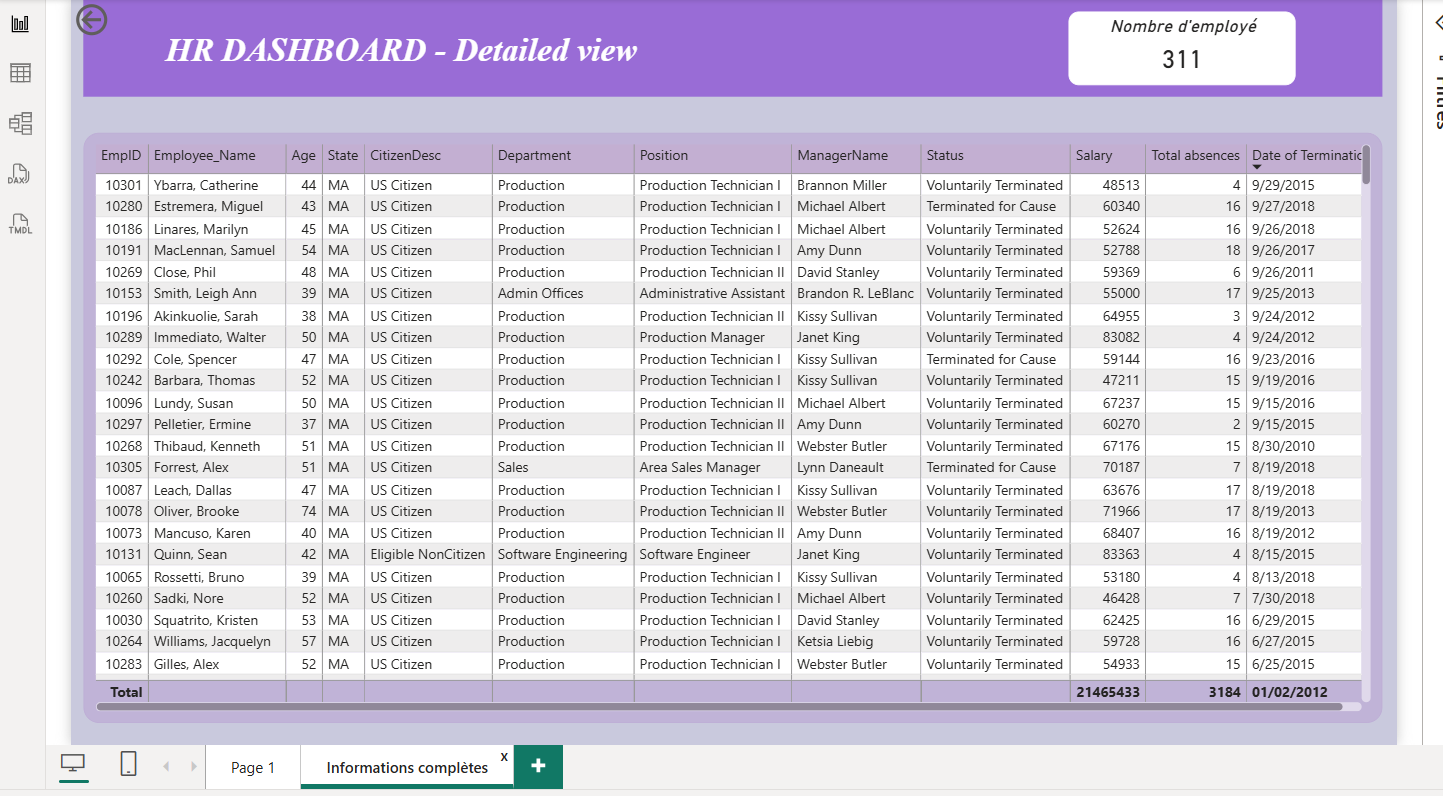

The dashboard page shown, as its layout file describes it:
{"tool":"powerbi","page":{"name":"Doublon de Page 1","canvas":[1280,720],"ordinal":1},"visuals":[{"type":"shape","box":[12.1,0,1253.5,94.1],"z":0},{"type":"textbox","box":[39.8,25.3,558.6,62.7],"z":1000},{"type":"tableEx","title":"Attrition by DateofHire","fields":{"Values":["HRDataset_v14.EmpID","HRDataset_v14.Employee_Name","HRDataset_v14.Age","HRDataset_v14.State","HRDataset_v14.CitizenDesc","HRDataset_v14.Department","HRDataset_v14.Position","HRDataset_v14.ManagerName","HRDataset_v14.EmploymentStatus","Measure.Salary","Sum(HRDataset_v14.Absences)","HRDataset_v14.DateofTermination"]},"box":[12.1,129.1,1253.5,569.4],"z":2000},{"type":"card","title":"Nombre d''employé","fields":{"Values":["Measure.Headcount"]},"box":[962.7,12.1,219.6,71.2],"z":3000},{"type":"actionButton","box":[0,0,100,40],"z":4000}]}

Visuals, with their boxes on the page's 1280x720 design canvas (x1, y1, x2, y2). These are canvas units, not pixel positions in the 1443x796 screenshot, which may show the page scaled, cropped or inside an application window:
shape: pyautogui.locateOnScreen(12, 0, 1266, 94)
textbox: pyautogui.locateOnScreen(40, 25, 598, 88)
"Attrition by DateofHire" tableEx: pyautogui.locateOnScreen(12, 129, 1266, 698)
"Nombre d''employé" card: pyautogui.locateOnScreen(963, 12, 1182, 83)
actionButton: pyautogui.locateOnScreen(0, 0, 100, 40)
